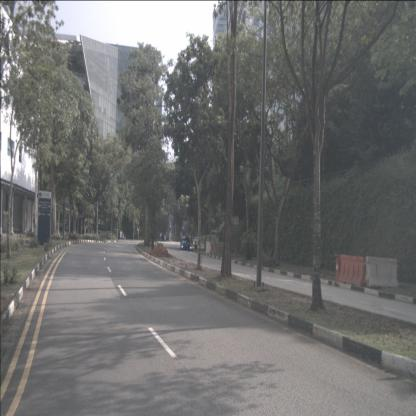movable_object-barrier: (365, 256, 399, 288), (338, 254, 366, 286), (335, 254, 349, 281), (212, 242, 224, 254), (207, 242, 213, 254), (205, 242, 211, 253)
vehicle-car: (180, 236, 191, 250), (192, 236, 202, 244)
vehicle-truck: (166, 231, 170, 240)
